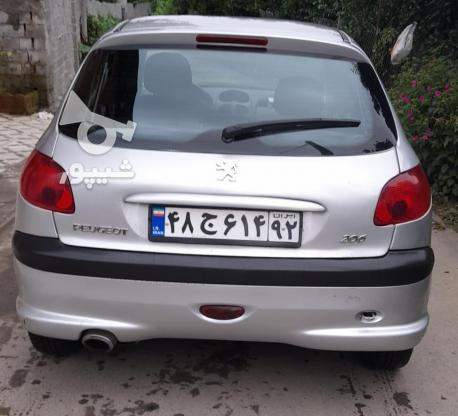car: (150, 204, 301, 249)
